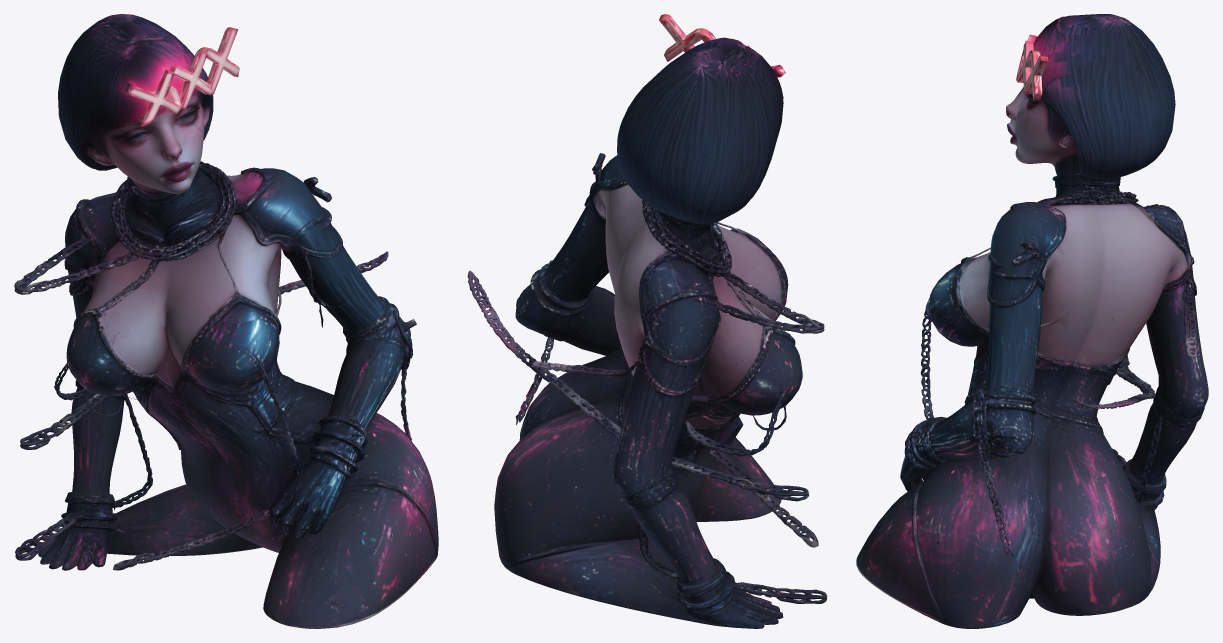
3 renders of one model, left to right at view 1: azimuth 30°, elevation 25°; view 2: azimuth 150°, elevation 25°; view 3: azimuth 270°, elevation 25°, orthographic. The views are drawn at different scales.
Parts seen in each view (by area): view 1: singer; view 2: singer; view 3: singer.
Boxes of the visible parts, x1,y1,x2,y2 form: singer: (14, 14, 438, 628); singer: (467, 14, 827, 628); singer: (856, 14, 1208, 628).
Size of the model in its own units: 0.6932 by 0.9817 by 0.6231.
1 material, 1 textured.
